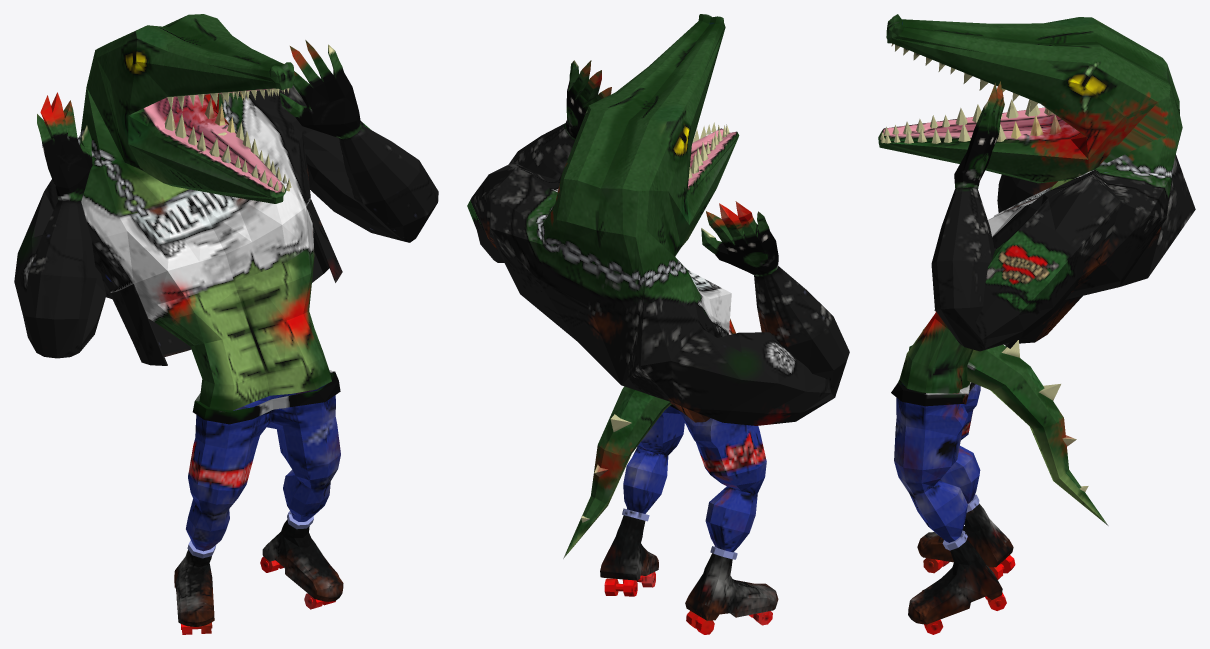
File: cocodrilaBonesSelect_000011.obj
The picture shows the model from 3 angles, left to right: view 1: azimuth 30°, elevation 25°; view 2: azimuth 150°, elevation 25°; view 3: azimuth 270°, elevation 25°; orthographic projection. The views are drawn at different scales.
Parts seen in each view (by area): view 1: Crocodile.002_Cylinder.002; view 2: Crocodile.002_Cylinder.002; view 3: Crocodile.002_Cylinder.002.
Boxes of the visible parts, x1,y1,x2,y2 form: Crocodile.002_Cylinder.002: (14,14,438,634); Crocodile.002_Cylinder.002: (467,14,849,634); Crocodile.002_Cylinder.002: (878,14,1195,634).
Bounding box in the file's own units: 4.62 × 6.6 × 3.26.
